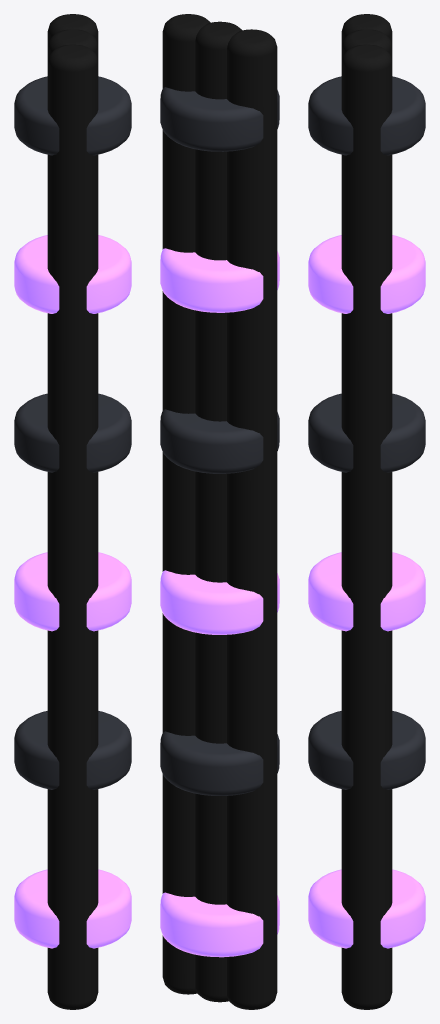
3 views of the same model, side by side, from view 1: azimuth 90°, elevation 25°; view 2: azimuth 150°, elevation 25°; view 3: azimuth 270°, elevation 25° (orthographic).
Visible parts, largest first — view 1: part_088; view 2: part_088; view 3: part_088.
Boxes of the visible parts, x1,y1,x2,y2 form: part_088: (14,14,131,1009); part_088: (160,14,279,1009); part_088: (308,14,425,1009).
Size of the model in its own units: 0.0816 by 0.7 by 0.0784.
